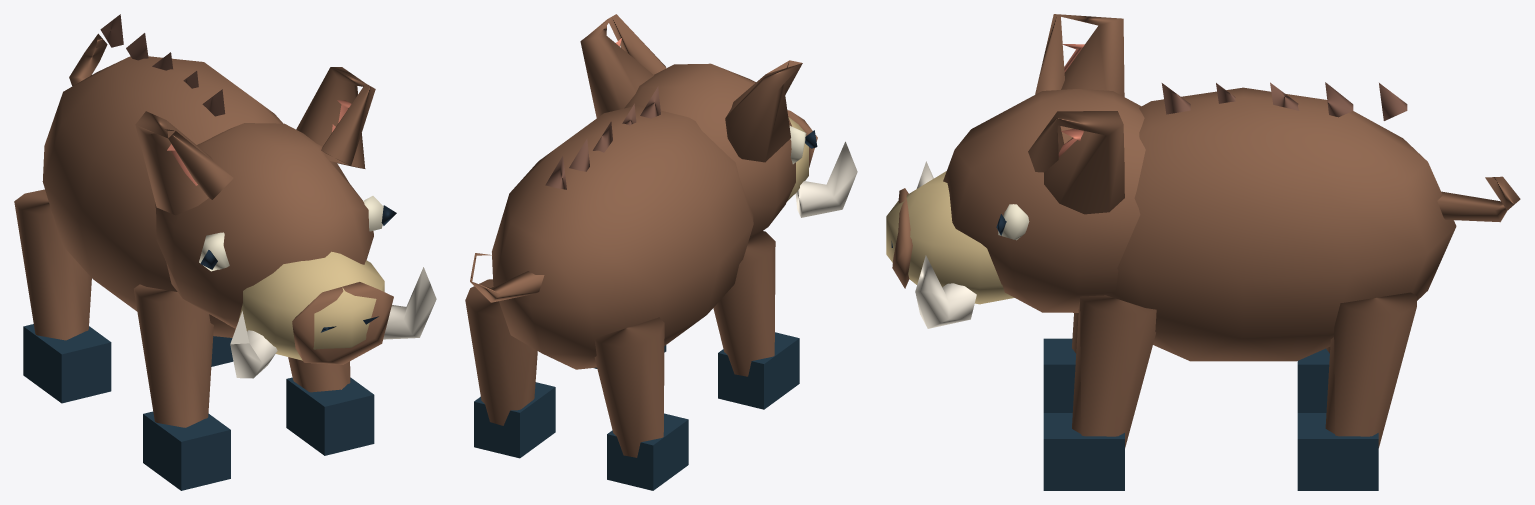
File: boar-amber-lod2.glb
The picture shows the model from 3 angles, left to right: view 1: azimuth 30°, elevation 25°; view 2: azimuth 150°, elevation 25°; view 3: azimuth 270°, elevation 25°; orthographic projection. The views are drawn at different scales.
Visible parts, largest first — view 1: asset_root; view 2: asset_root; view 3: asset_root.
Boxes of the visible parts, bbox=[...] form: asset_root: bbox=[14, 14, 436, 490]; asset_root: bbox=[465, 14, 857, 490]; asset_root: bbox=[886, 14, 1520, 490].
Bounding box in the file's own units: 0.7854 × 1.23 × 1.88.
Materials: 1 (1 with a texture image).
